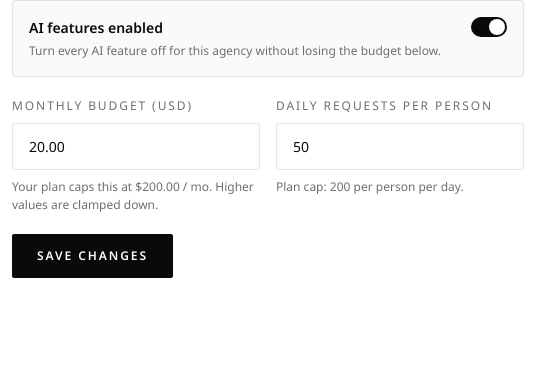
Test: AiSettingsPanel › rejects an invalid daily cap before submitting
Replace the text in the number field labelled "Daily requests per person" with "0": [400, 146] box [276,123,524,170]
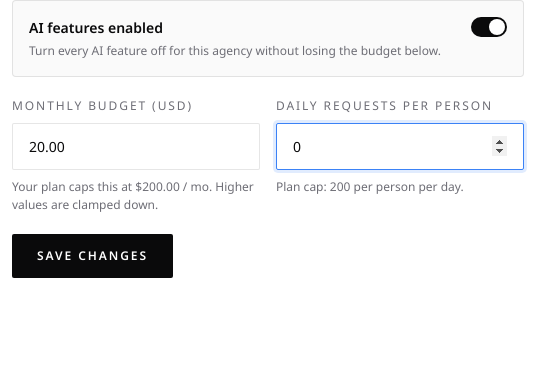
Click the button "Save changes": [92, 256] box [12,234,173,278]
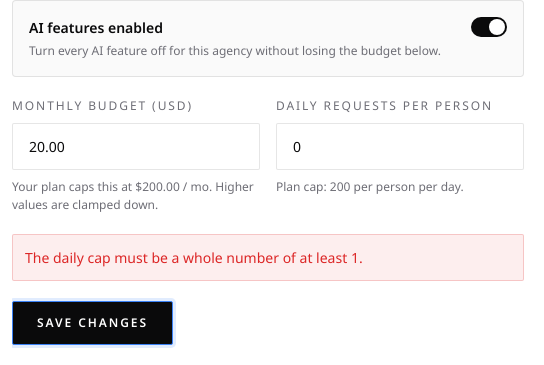
Expected: the text "The daily cap must be a whole number of at least 1." is shown, [12,234,524,281]
